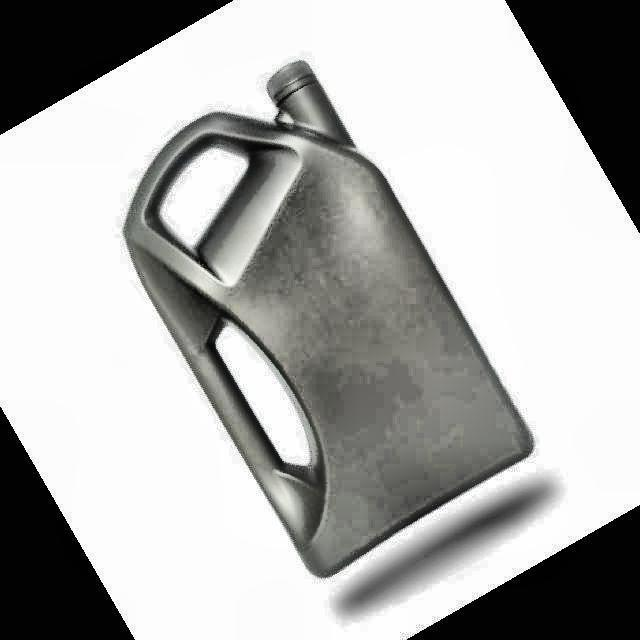plastic: (124, 61, 532, 577)
